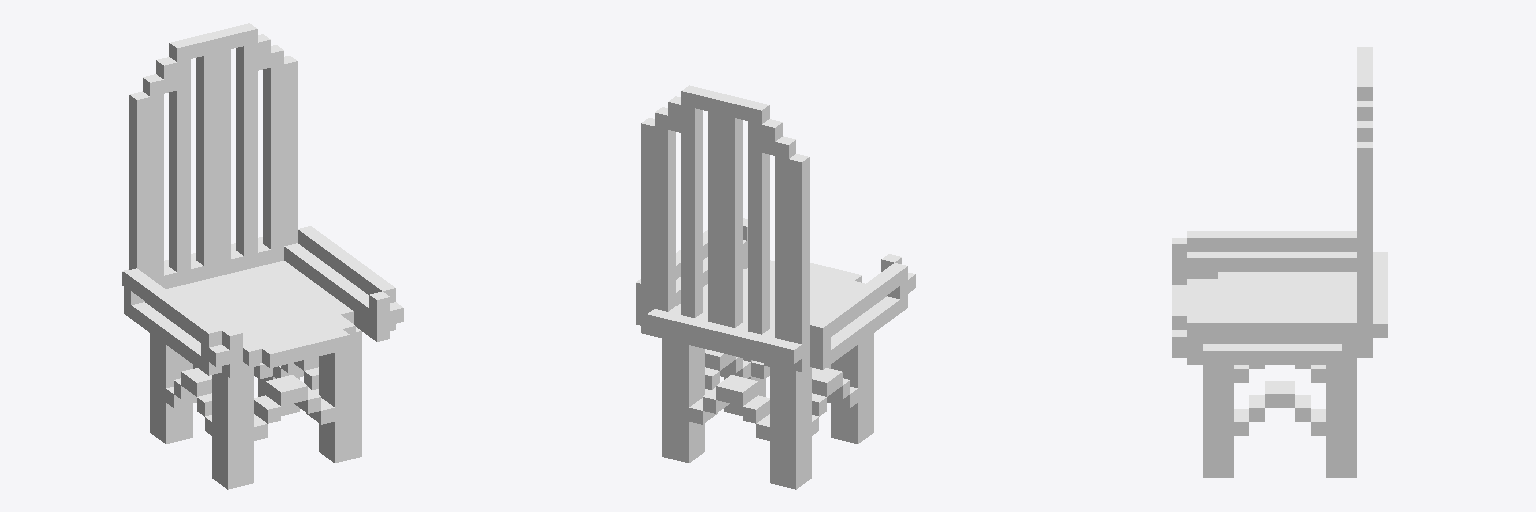
File: prop_chair_dark_brown.obj
3 views of the same model, side by side, from view 1: azimuth 30°, elevation 25°; view 2: azimuth 150°, elevation 25°; view 3: azimuth 270°, elevation 25° (orthographic).
Visible parts, largest first — view 1: object 1; view 2: object 1; view 3: object 1.
Boxes of the visible parts, <box> form: object 1: <box>122,23,403,489</box>; object 1: <box>636,85,915,489</box>; object 1: <box>1172,47,1387,477</box>.
Bounding box in the file's own units: 1.4 × 2.7 × 1.4.